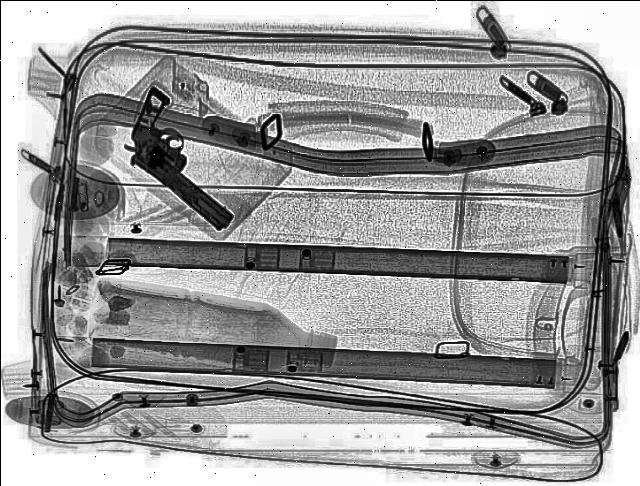Gun: (86, 82, 290, 232)
